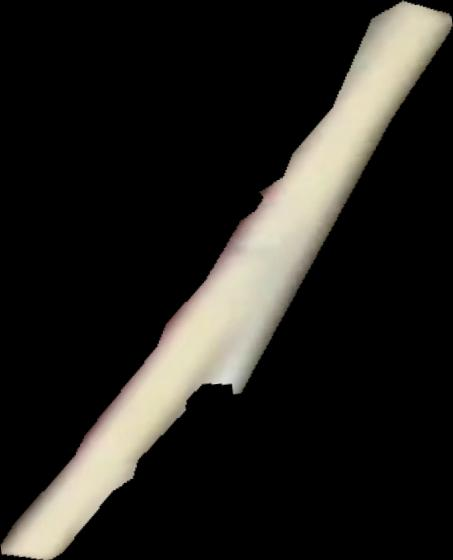backward: (1, 1, 453, 560)
